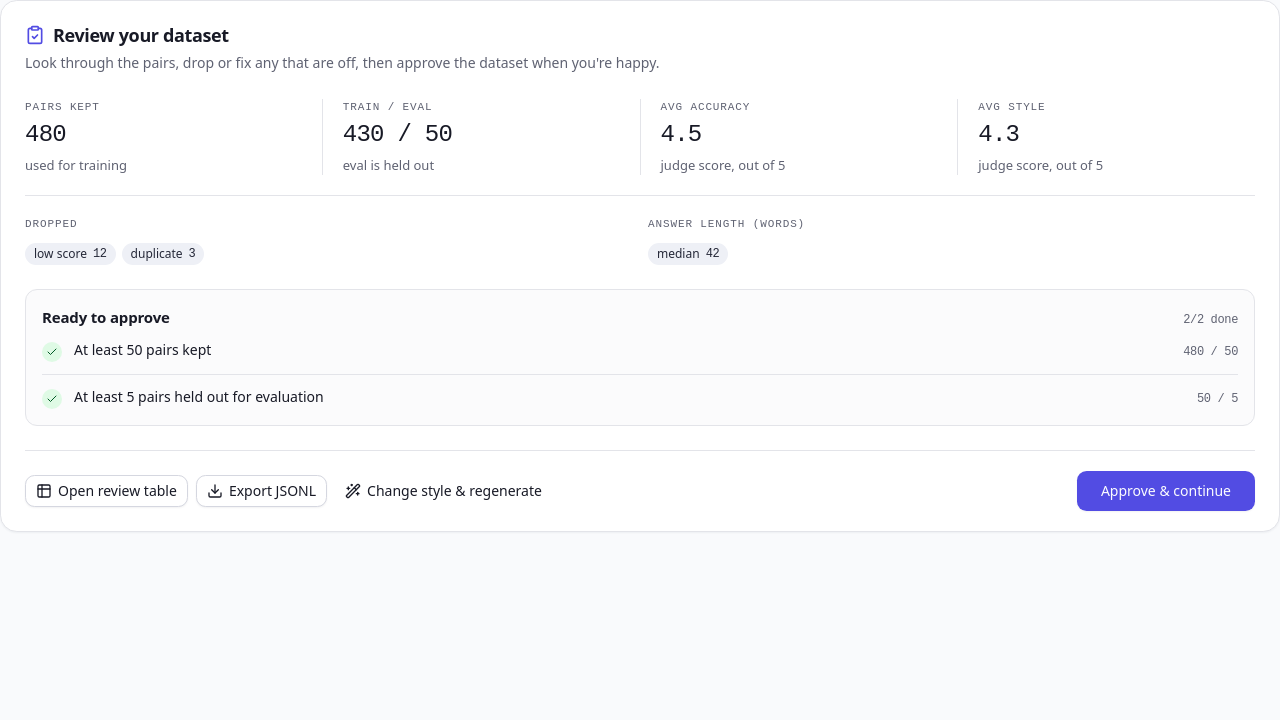
ReviewPanel › shows the 409 message inline when approving fails
This screenshot has width=1280, height=720.
Click the button "Approve & continue": click(1166, 491) [1077,471,1255,511]
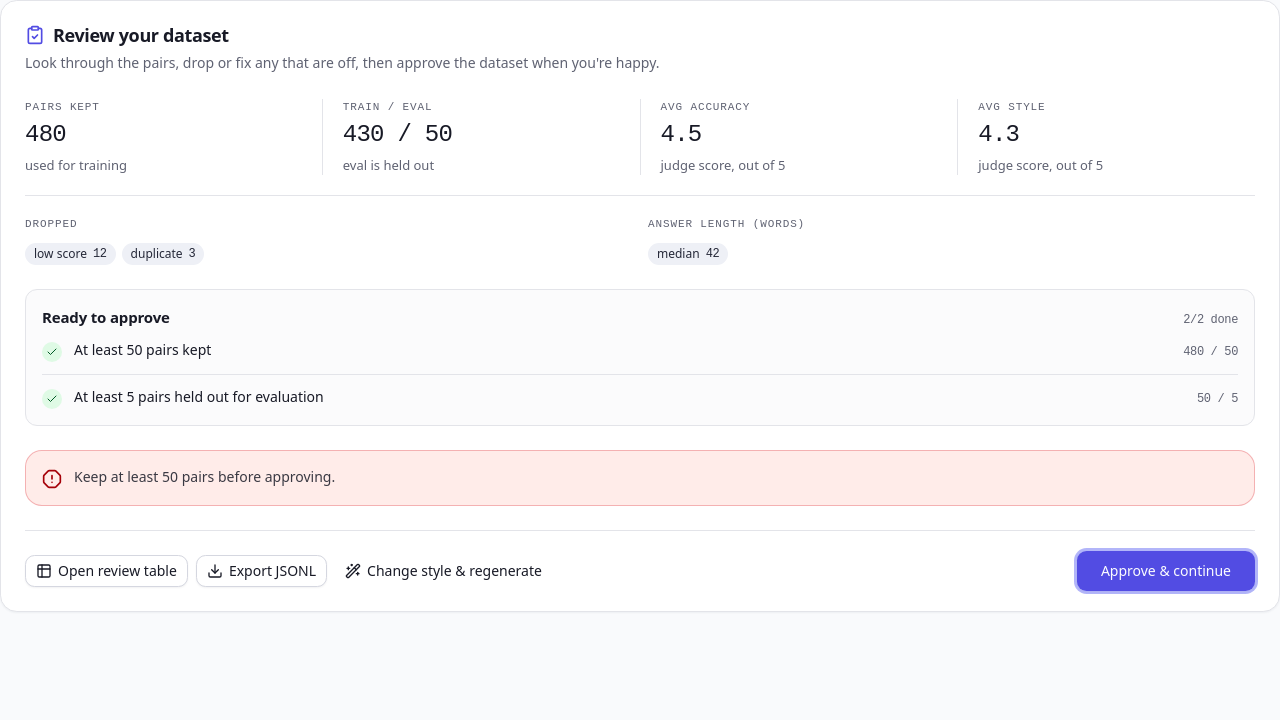
Expected: the message reads "Keep at least 50 pairs before approving.", [74,467,335,486]
